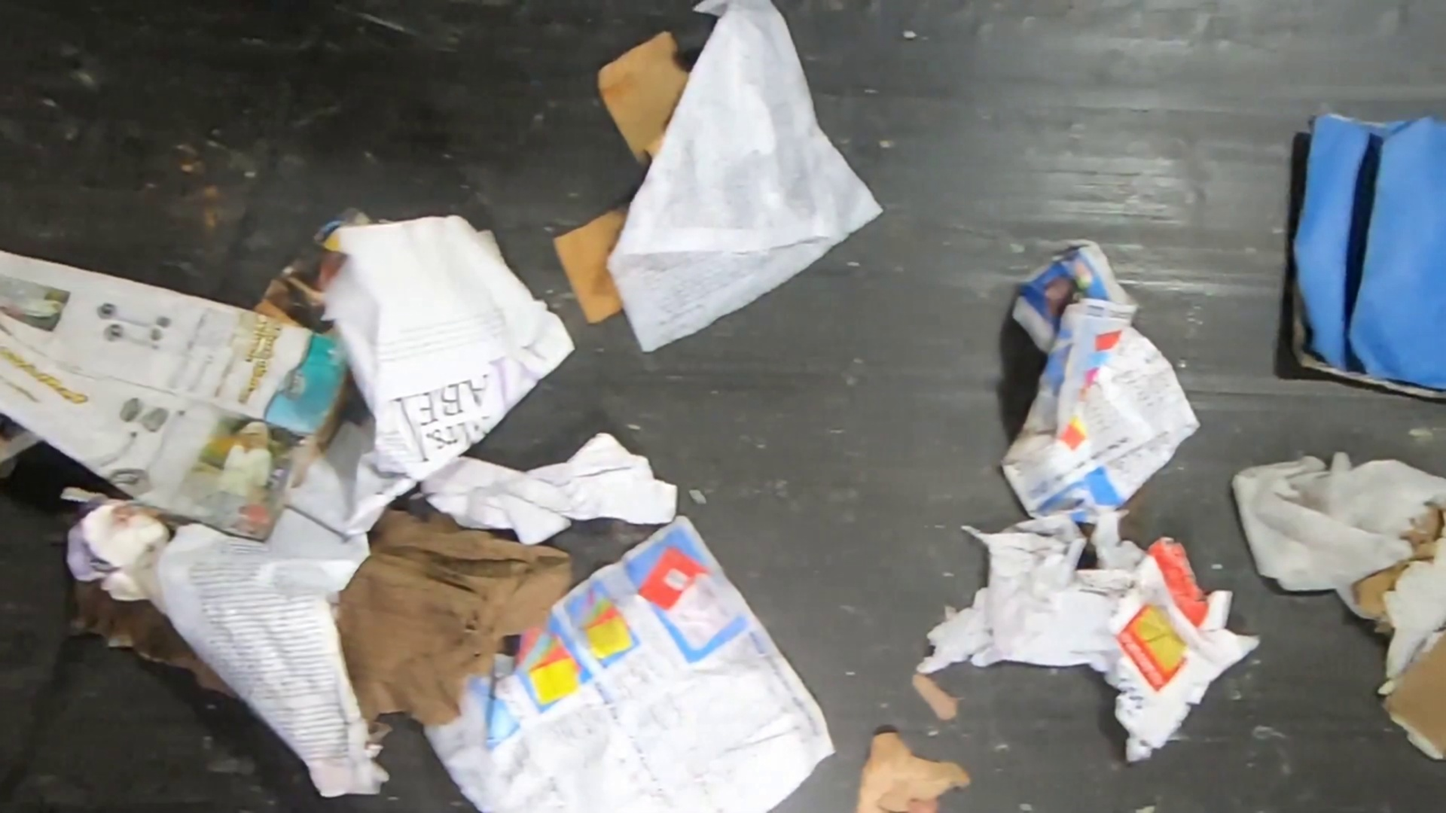cardboard: (0, 251, 355, 543), (335, 487, 574, 742), (1276, 103, 1446, 429), (1350, 490, 1446, 761), (67, 584, 241, 700), (595, 28, 694, 170), (552, 199, 637, 326), (48, 513, 88, 544)
